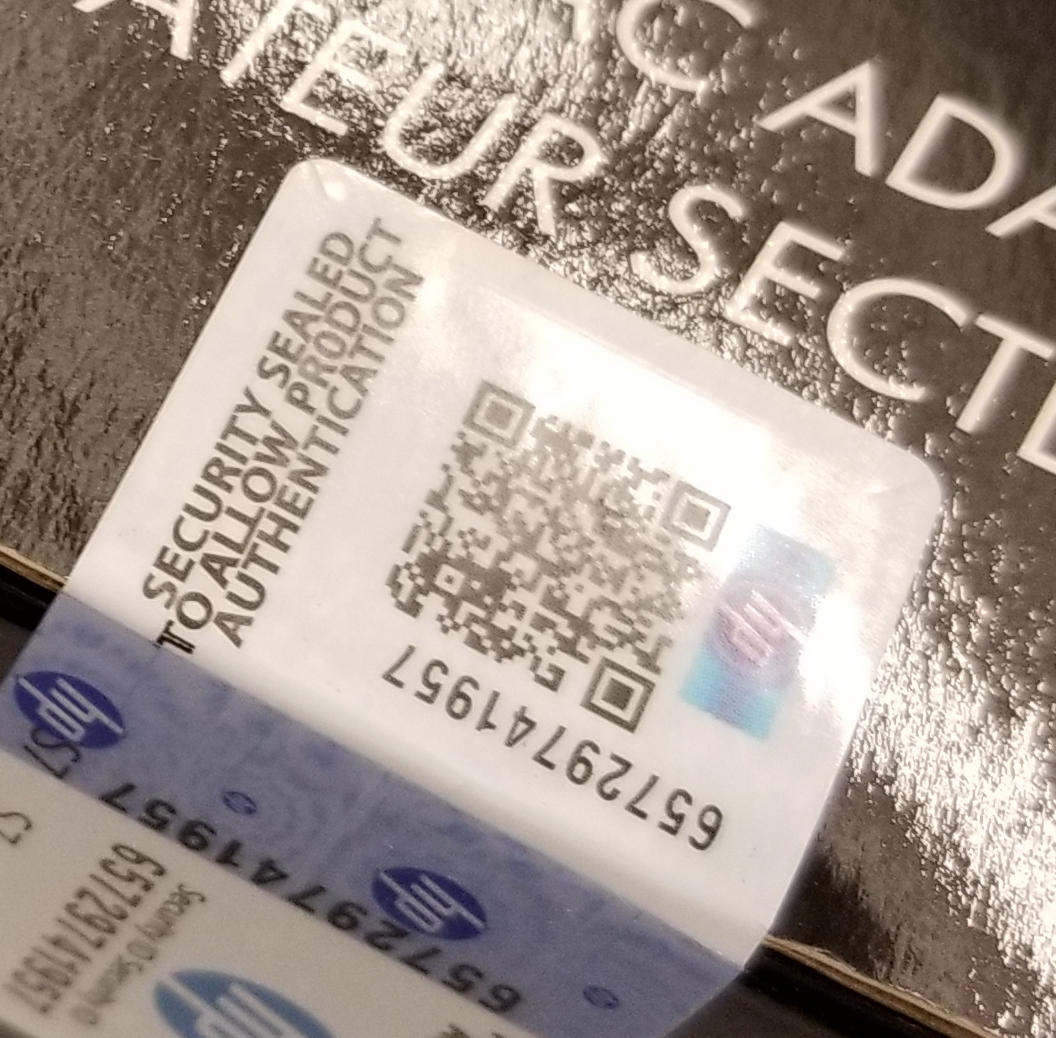QR_CODE: (367, 360, 740, 755)
